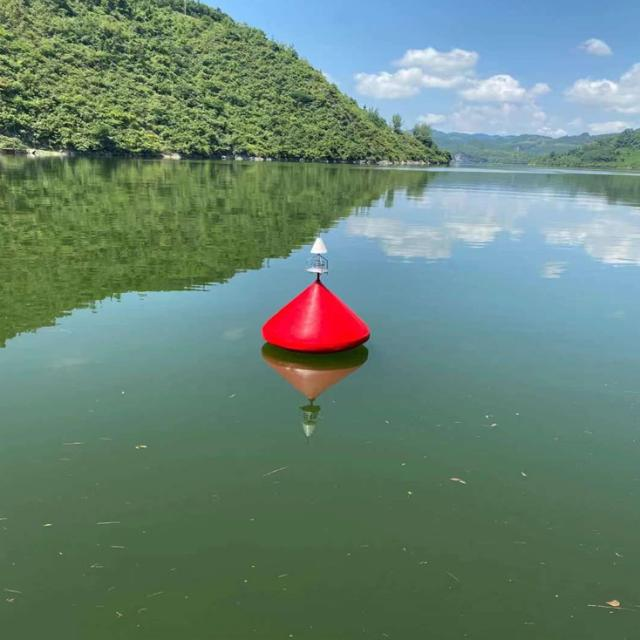buoy: (254, 227, 371, 355)
